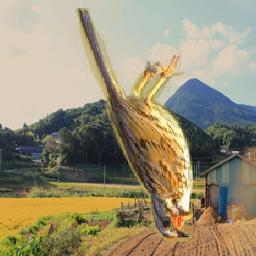Sparrow: (75, 8, 193, 242)
